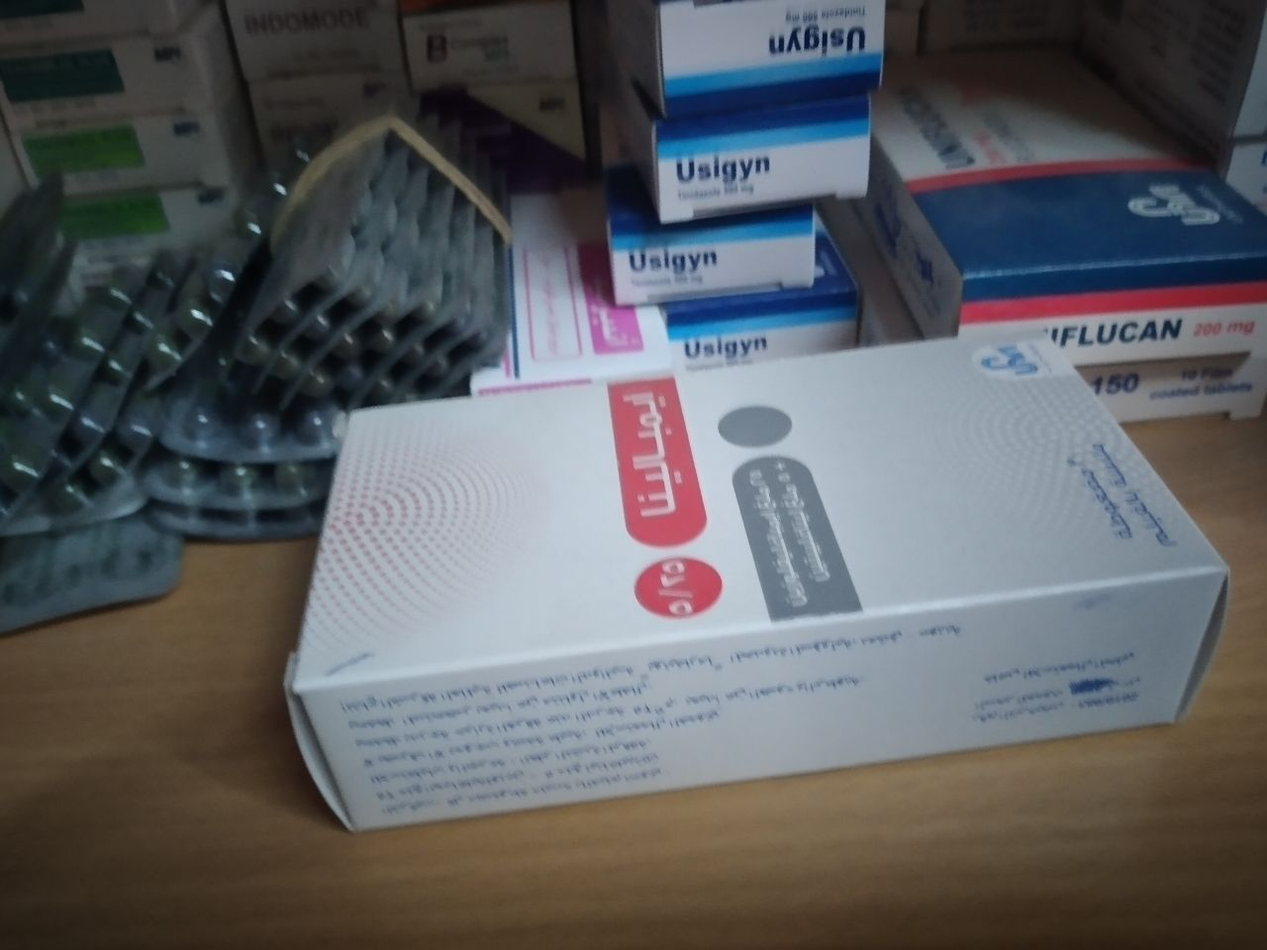Medicine: (270, 319, 1245, 834), (829, 40, 1267, 386), (445, 171, 690, 396), (626, 2, 878, 143), (626, 121, 888, 225), (591, 215, 824, 312), (676, 302, 854, 388)
